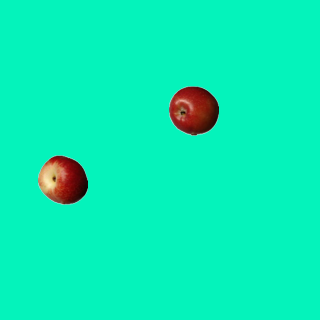Apple Braeburn: (168, 85, 218, 135)
Nectarine: (37, 154, 87, 204)
